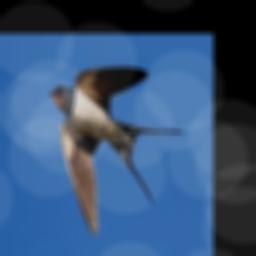Swallow: (49, 66, 183, 234)
